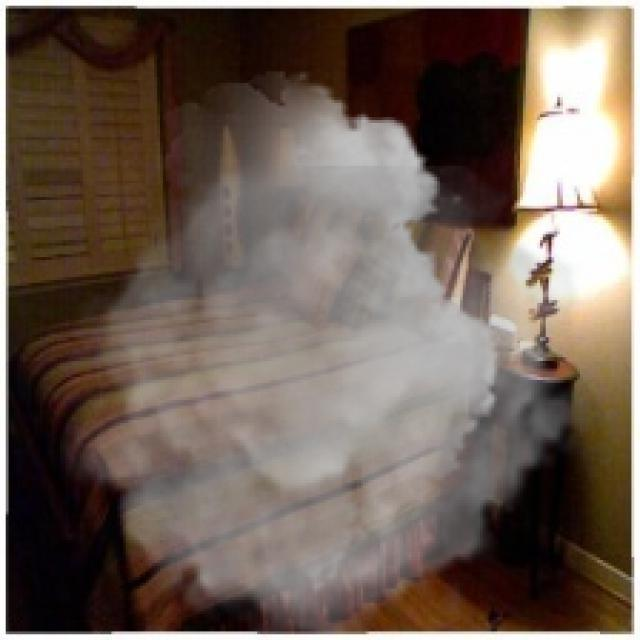Smoke: (60, 71, 597, 634)
